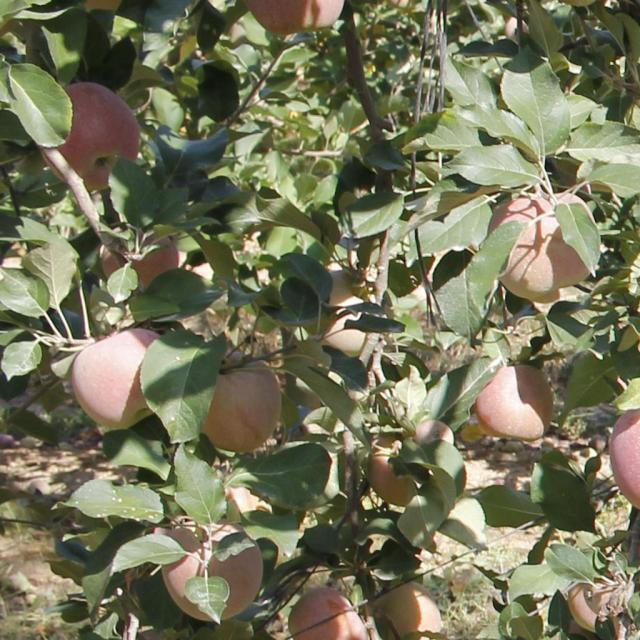apple: (157, 525, 262, 620), (289, 577, 444, 639), (59, 82, 138, 190), (370, 422, 466, 510), (72, 328, 157, 426), (203, 352, 282, 452), (475, 366, 551, 439), (101, 232, 179, 302), (609, 410, 639, 509)
